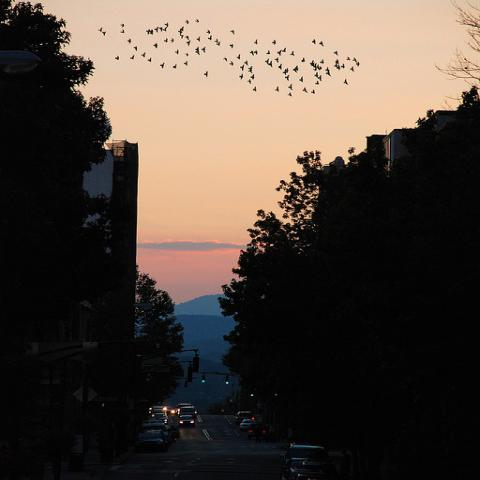car: (279, 458, 337, 479), (280, 440, 329, 464), (147, 398, 198, 418), (141, 425, 179, 444), (134, 433, 168, 452), (247, 424, 269, 442), (234, 410, 256, 425), (291, 472, 332, 480), (177, 415, 196, 428), (180, 406, 198, 419), (142, 421, 167, 429), (240, 419, 257, 430), (151, 409, 167, 417), (155, 417, 169, 425)
